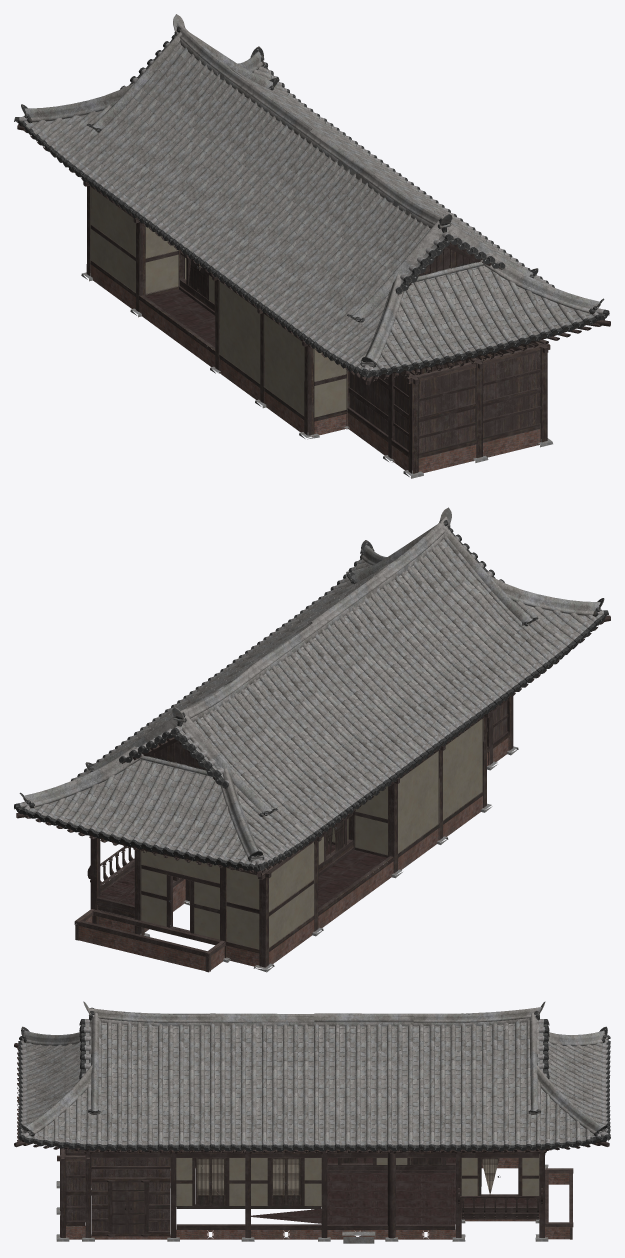
The model's file is anchae.glb.
3 views of the same model, one above another, from view 1: azimuth 30°, elevation 25°; view 2: azimuth 150°, elevation 25°; view 3: azimuth 270°, elevation 25° (orthographic). The views are drawn at different scales.
Parts seen in each view (by area): view 1: Anchae_mesh, Anchae_mesh_Roof_Concrete_01_m_0.008, Anchae_mesh_Roof_Concrete_01_m_0.004, Anchae_mesh_Roof_Concrete_01_m_0.007, Anchae_mesh_Roof_Concrete_01_m_0.006, Anchae_mesh_Roof_Concrete_01_m_0.001, Anchae_mesh_Roof_Concrete_01_m_0.003, Anchae_mesh_Roof_Concrete_01_m_0.009, Anchae_mesh_Roof_Concrete_01_m_0.002, Anchae_mesh_Roof_Concrete_01_m_0.005; view 2: Anchae_mesh, Anchae_mesh_Roof_Concrete_01_m_0.008, Anchae_mesh_Roof_Concrete_01_m_0.007, Anchae_mesh_Roof_Concrete_01_m_0.004, Anchae_mesh_Roof_Concrete_01_m_0.001, Anchae_mesh_Roof_Concrete_01_m_0.003, Anchae_mesh_Roof_Concrete_01_m_0.009, Anchae_mesh_Roof_Concrete_01_m_0.002, Anchae_mesh_Roof_Concrete_01_m_0.005; view 3: Anchae_mesh, Anchae_mesh_Roof_Concrete_01_m_0.002, Anchae_mesh_Roof_Concrete_01_m_0.005, Anchae_mesh_Roof_Concrete_01_m_0.003, Anchae_mesh_Roof_Concrete_01_m_0.004, Anchae_mesh_Roof_Concrete_01_m_0.006, Anchae_mesh_Roof_Concrete_01_m_0.001.
Boxes of the visible parts, bbox=[...] form: Anchae_mesh: bbox=[17, 14, 610, 478]; Anchae_mesh_Roof_Concrete_01_m_0.008: bbox=[172, 124, 377, 297]; Anchae_mesh_Roof_Concrete_01_m_0.004: bbox=[16, 14, 609, 377]; Anchae_mesh_Roof_Concrete_01_m_0.007: bbox=[258, 182, 430, 369]; Anchae_mesh_Roof_Concrete_01_m_0.006: bbox=[233, 66, 594, 370]; Anchae_mesh_Roof_Concrete_01_m_0.001: bbox=[71, 48, 369, 206]; Anchae_mesh_Roof_Concrete_01_m_0.003: bbox=[14, 26, 608, 376]; Anchae_mesh_Roof_Concrete_01_m_0.009: bbox=[122, 93, 290, 243]; Anchae_mesh_Roof_Concrete_01_m_0.002: bbox=[323, 135, 455, 218]; Anchae_mesh_Roof_Concrete_01_m_0.005: bbox=[252, 83, 547, 284]; Anchae_mesh: bbox=[15, 507, 610, 972]; Anchae_mesh_Roof_Concrete_01_m_0.008: bbox=[294, 584, 487, 765]; Anchae_mesh_Roof_Concrete_01_m_0.007: bbox=[377, 534, 601, 703]; Anchae_mesh_Roof_Concrete_01_m_0.004: bbox=[14, 507, 607, 871]; Anchae_mesh_Roof_Concrete_01_m_0.001: bbox=[110, 683, 363, 839]; Anchae_mesh_Roof_Concrete_01_m_0.003: bbox=[15, 520, 608, 868]; Anchae_mesh_Roof_Concrete_01_m_0.009: bbox=[253, 647, 413, 802]; Anchae_mesh_Roof_Concrete_01_m_0.002: bbox=[147, 643, 282, 727]; Anchae_mesh_Roof_Concrete_01_m_0.005: bbox=[85, 561, 393, 773]; Anchae_mesh: bbox=[14, 1001, 609, 1243]; Anchae_mesh_Roof_Concrete_01_m_0.002: bbox=[254, 1023, 402, 1145]; Anchae_mesh_Roof_Concrete_01_m_0.005: bbox=[89, 1019, 508, 1145]; Anchae_mesh_Roof_Concrete_01_m_0.003: bbox=[18, 1007, 610, 1148]; Anchae_mesh_Roof_Concrete_01_m_0.004: bbox=[18, 1002, 610, 1151]; Anchae_mesh_Roof_Concrete_01_m_0.006: bbox=[22, 1020, 595, 1145]; Anchae_mesh_Roof_Concrete_01_m_0.001: bbox=[381, 1023, 465, 1145].
Size of the model in its own units: 10.08 by 9.26 by 24.6.
Materials: 10 (10 with a texture image).
